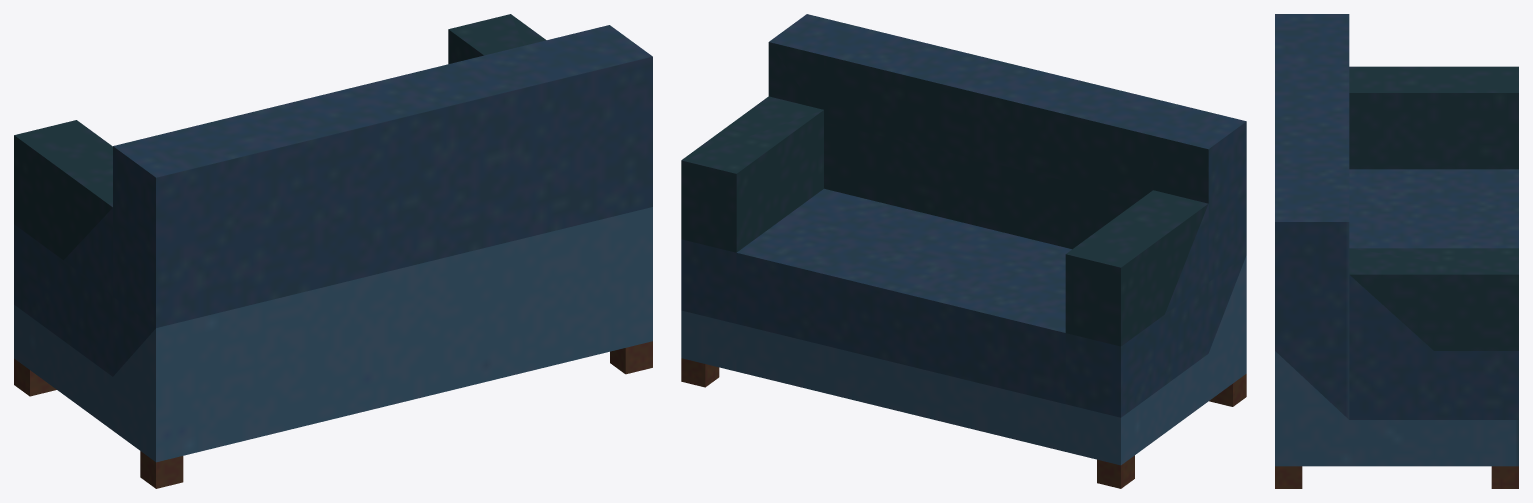
Rendered from couch.fbx.
3 renders of one model, left to right at view 1: azimuth 30°, elevation 25°; view 2: azimuth 150°, elevation 25°; view 3: azimuth 270°, elevation 25°, orthographic. The views are drawn at different scales.
Visible parts, largest first — view 1: Couch; view 2: Couch; view 3: Couch.
Boxes of the visible parts, left/top/right/bottom form: Couch: left=14, top=14, right=652, bottom=488; Couch: left=681, top=14, right=1246, bottom=488; Couch: left=1275, top=14, right=1518, bottom=488.
Bounding box in the file's own units: 1.8 × 0.8907 × 1.08.
Materials: 2 (2 with a texture image).
